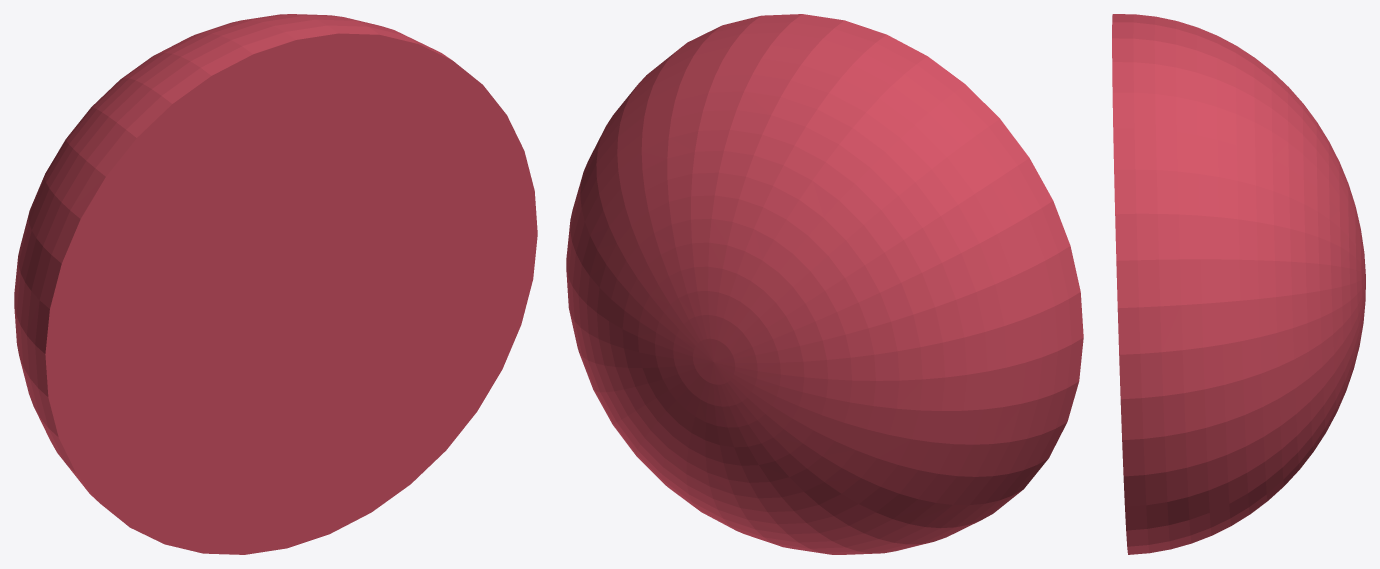
File: knopka.glb
The picture shows the model from 3 angles, left to right: view 1: azimuth 30°, elevation 25°; view 2: azimuth 150°, elevation 25°; view 3: azimuth 270°, elevation 25°; orthographic projection. The views are drawn at different scales.
Visible parts, largest first — view 1: Mesh_Mesh_head_geo.001_lambert2SG.001; view 2: Mesh_Mesh_head_geo.001_lambert2SG.001; view 3: Mesh_Mesh_head_geo.001_lambert2SG.001.
Boxes of the visible parts, bbox=[...] form: Mesh_Mesh_head_geo.001_lambert2SG.001: bbox=[14, 14, 537, 554]; Mesh_Mesh_head_geo.001_lambert2SG.001: bbox=[566, 14, 1083, 554]; Mesh_Mesh_head_geo.001_lambert2SG.001: bbox=[1112, 14, 1365, 554].
Bounding box in the file's own units: 20 × 19.99 × 9.35.
